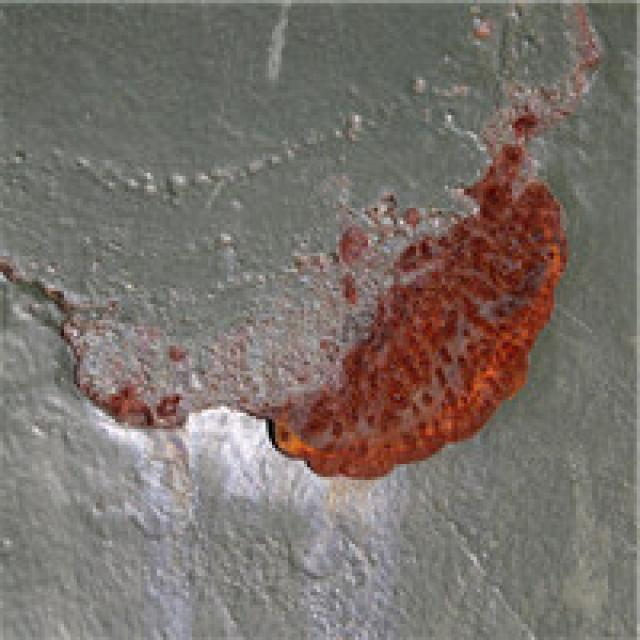Corrosion: (2, 2, 604, 480), (267, 143, 569, 478)
